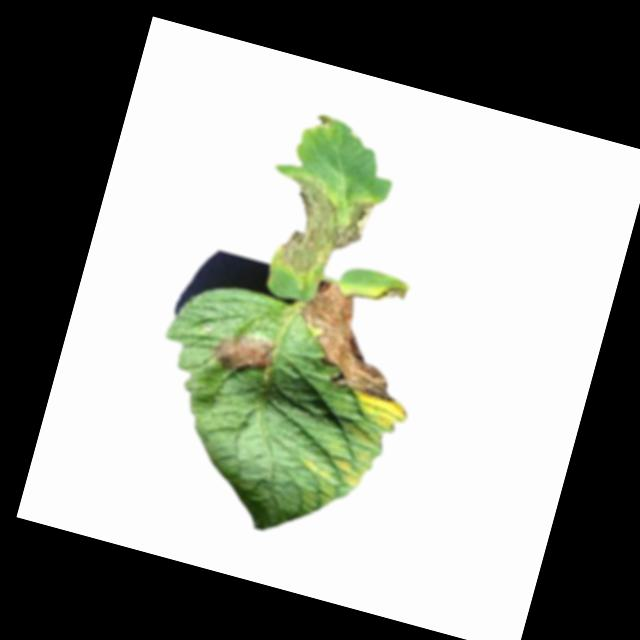Late_blight: (284, 275, 416, 408), (264, 167, 381, 293), (210, 324, 278, 379), (368, 280, 407, 309), (310, 111, 337, 136)
